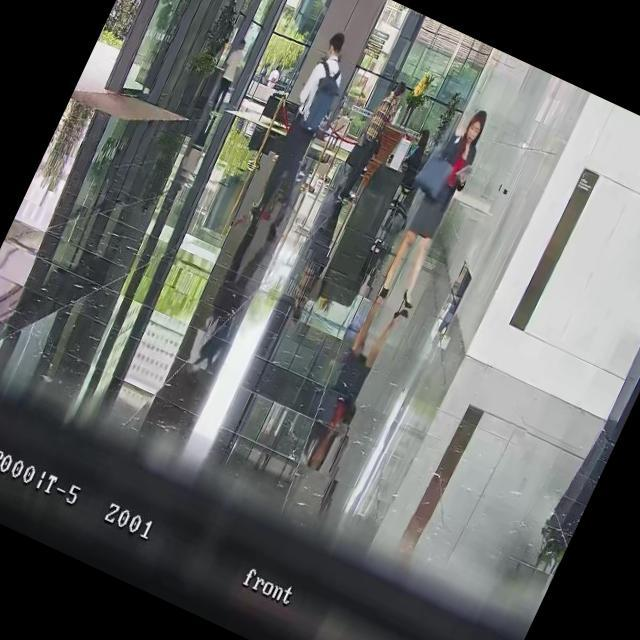person: (368, 100, 502, 322), (241, 27, 371, 238), (330, 74, 411, 208), (203, 36, 255, 118), (392, 126, 438, 193), (266, 63, 284, 89), (256, 60, 274, 86)
